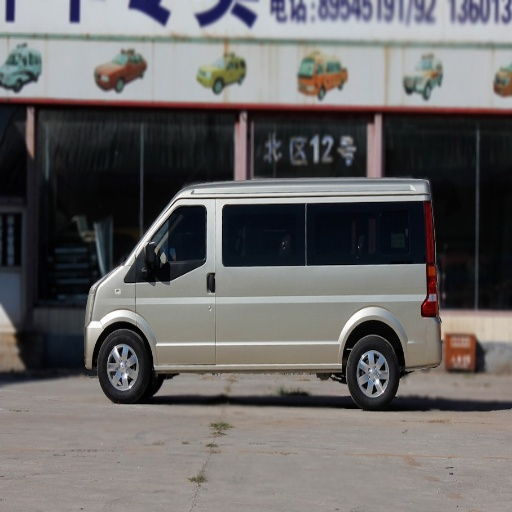back_glass: (90, 1, 173, 28)
back_left_door: (221, 201, 332, 363)
trunk: (73, 31, 285, 105), (330, 270, 447, 368)
